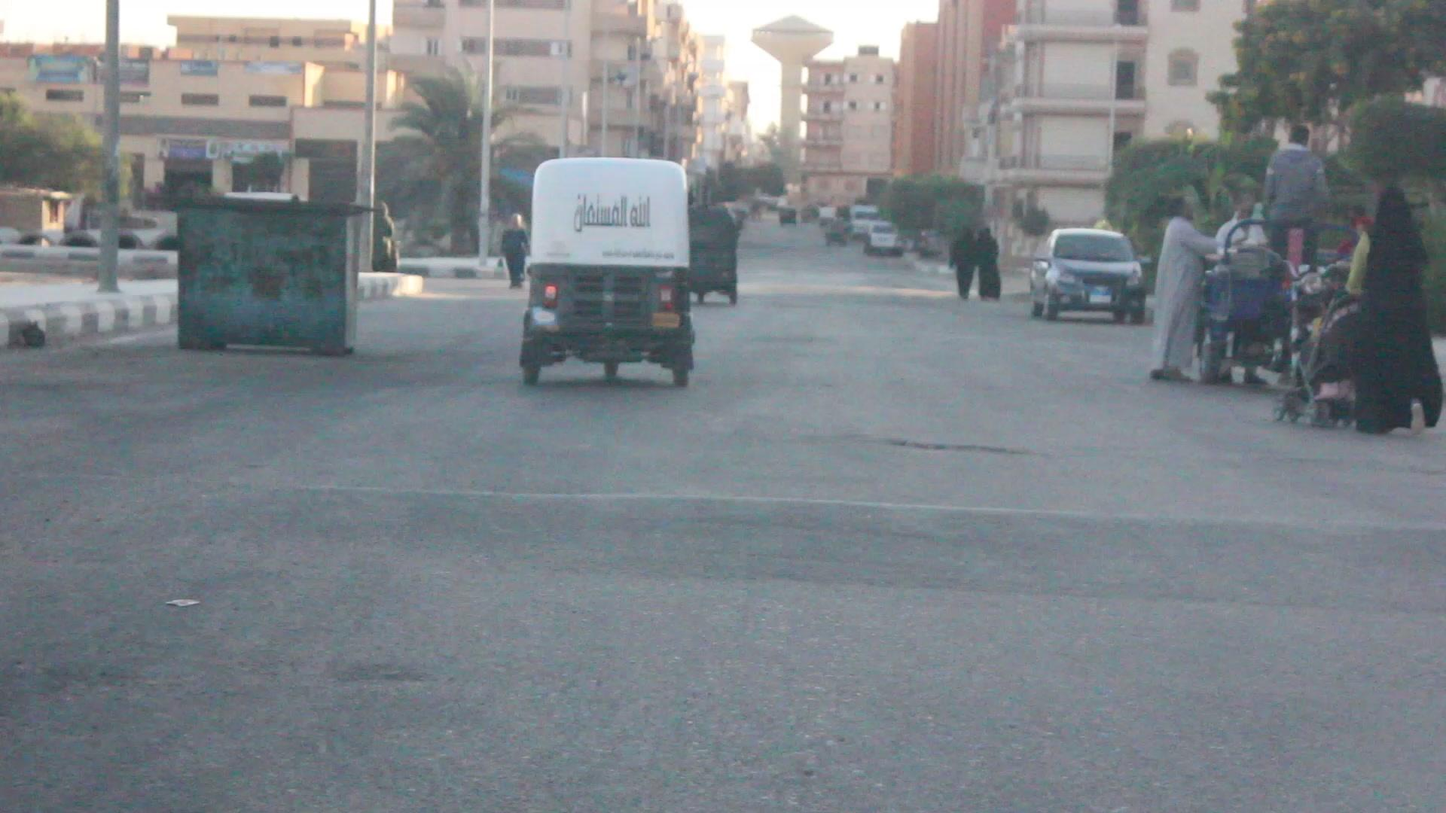Bump: (0, 454, 1446, 623)
